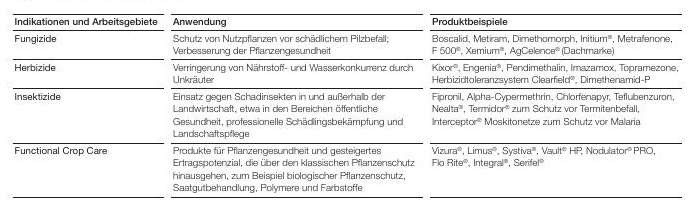table: (0, 0, 698, 212)
